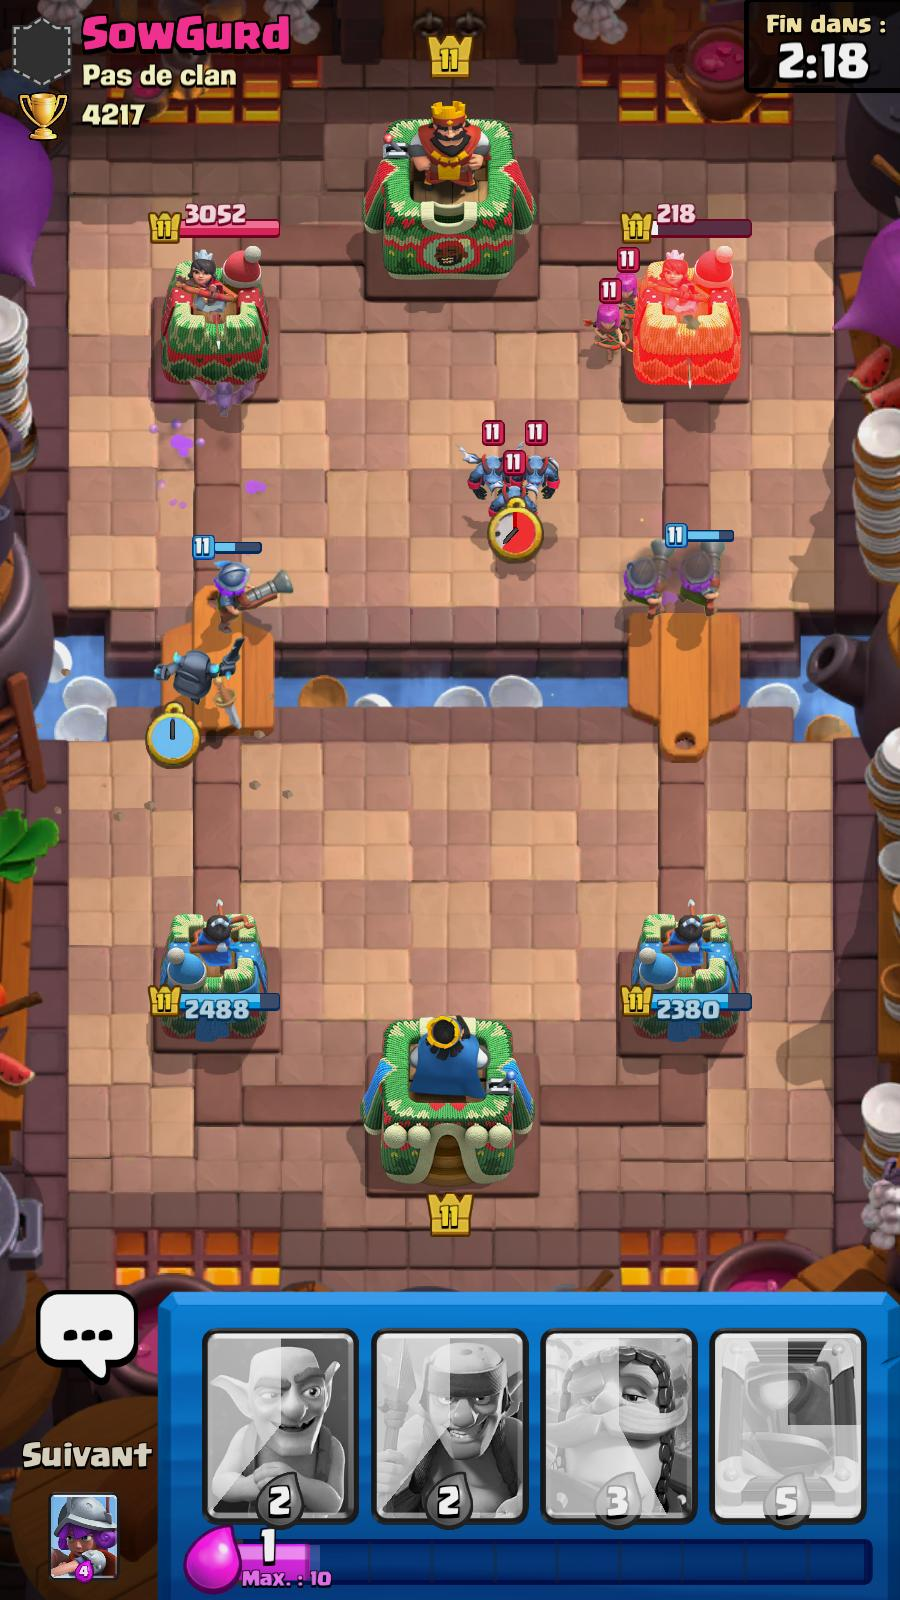archere: (592, 276, 627, 355), (605, 247, 642, 318)
gargouille: (459, 419, 513, 500), (518, 419, 571, 495), (491, 453, 537, 522)
mini_PEKKA: (157, 637, 252, 705)
mousquetaire: (191, 540, 299, 641), (673, 525, 741, 618), (615, 531, 674, 623)
